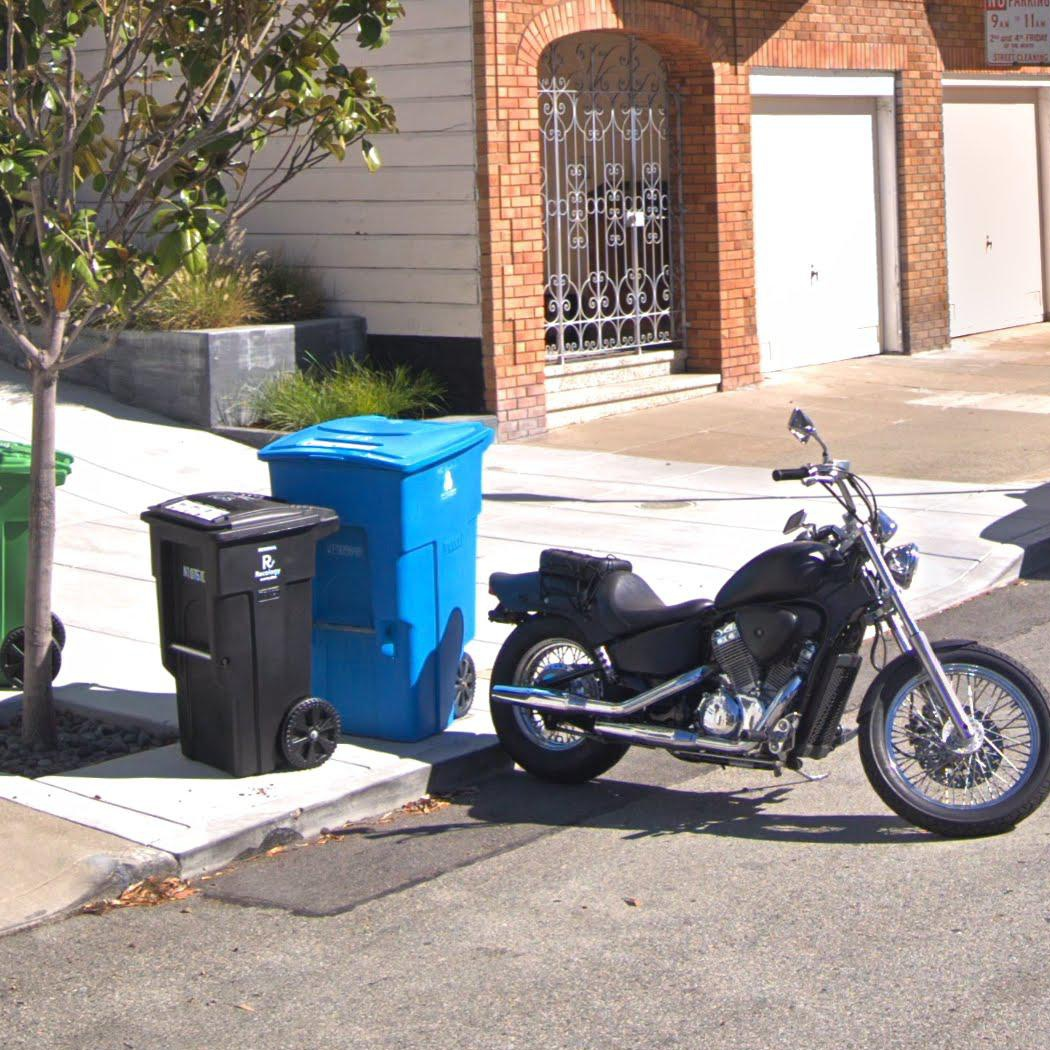No Parking: (983, 0, 1050, 69)
